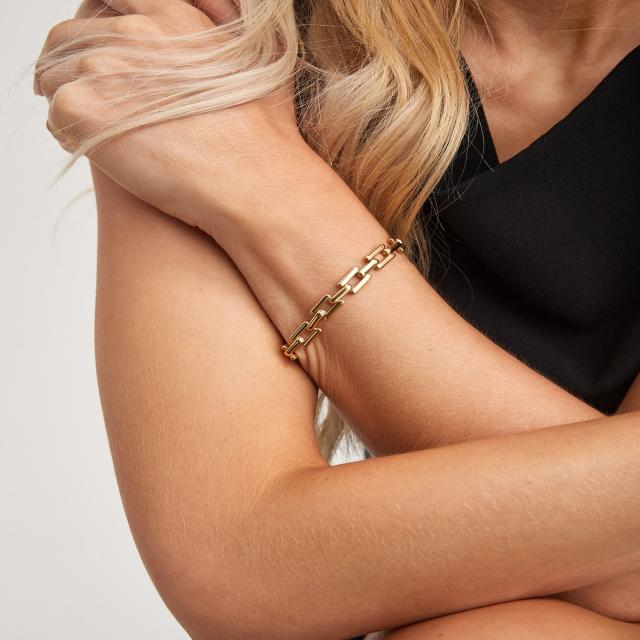bracelet: (239, 197, 471, 392)
